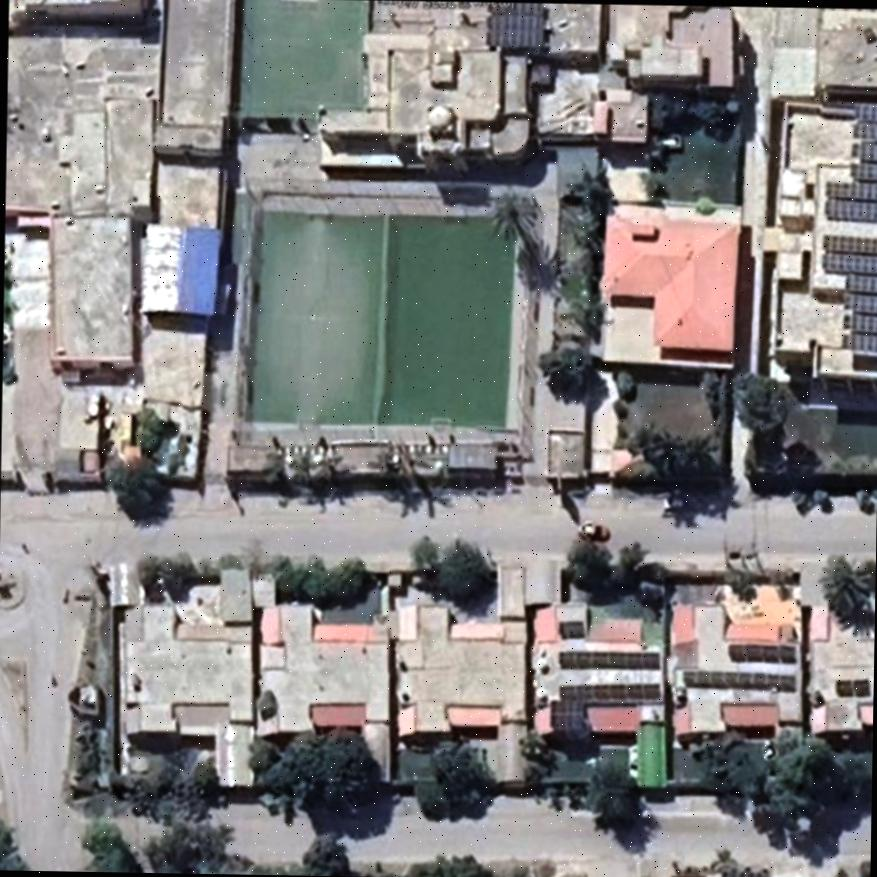Solarpanel: (484, 2, 545, 46), (847, 273, 877, 349), (826, 181, 877, 222), (851, 103, 877, 180), (680, 672, 791, 686), (560, 682, 656, 698), (556, 651, 658, 665), (823, 250, 877, 271), (727, 645, 796, 659), (553, 700, 581, 726)
